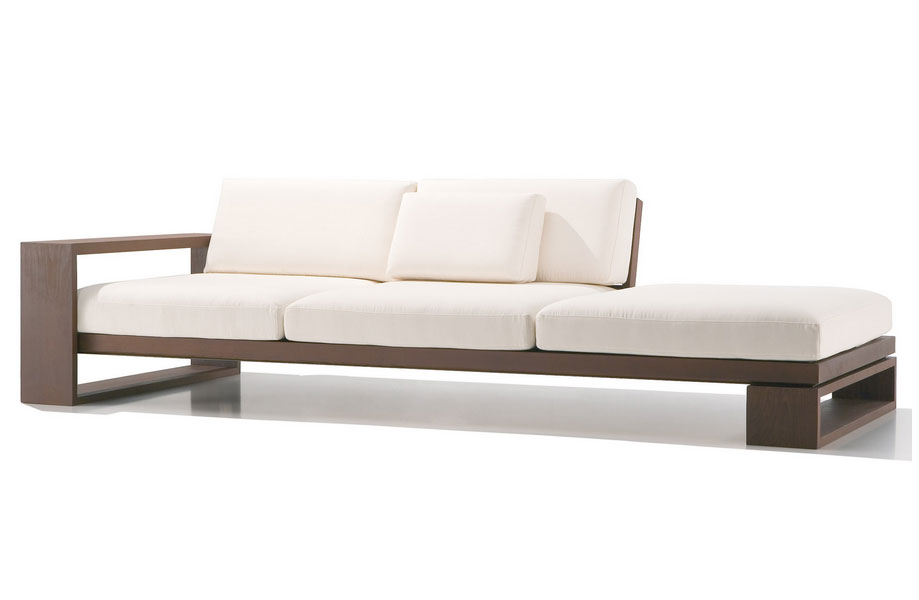chairs: (19, 177, 900, 454)
